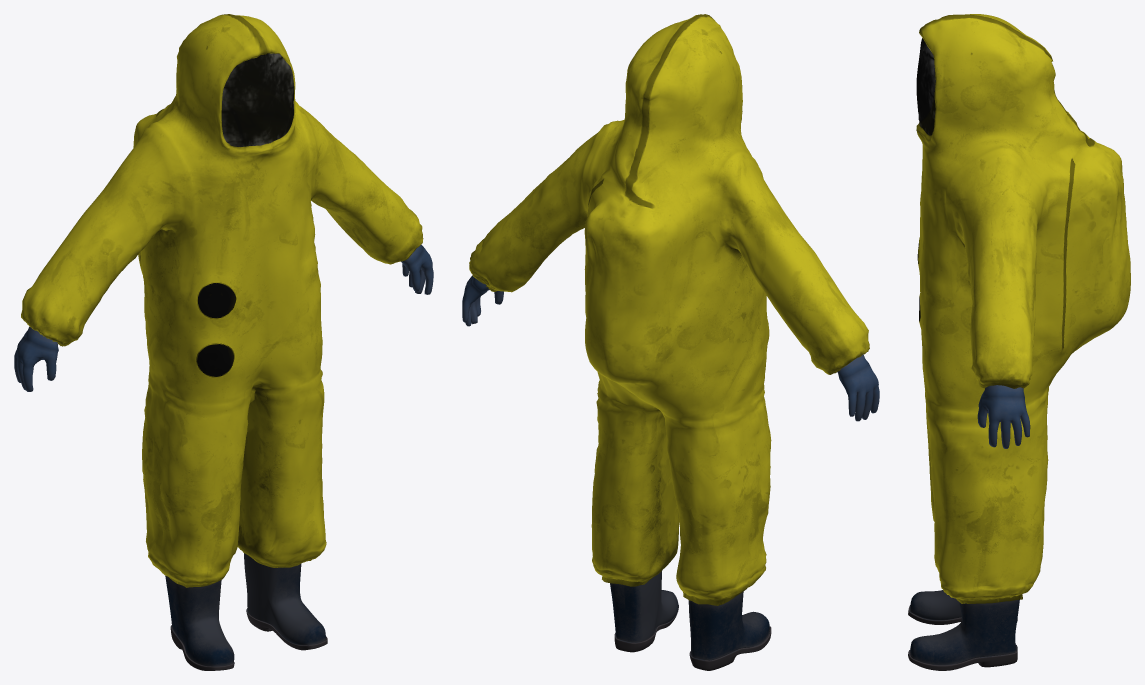
File: hazmat4.obj
3 renders of one model, left to right at view 1: azimuth 30°, elevation 25°; view 2: azimuth 150°, elevation 25°; view 3: azimuth 270°, elevation 25°, orthographic.
Parts seen in each view (by area): view 1: suit_Cube.010, boots_Cube.011, gloves_Cube.012; view 2: suit_Cube.010, boots_Cube.011, gloves_Cube.012; view 3: suit_Cube.010, boots_Cube.011, gloves_Cube.012.
Boxes of the visible parts, box(x1,y1,x2,y2) form: suit_Cube.010: box(21, 14, 423, 587); boots_Cube.011: box(165, 553, 327, 670); gloves_Cube.012: box(14, 244, 433, 391); suit_Cube.010: box(469, 14, 869, 605); boots_Cube.011: box(610, 570, 771, 670); gloves_Cube.012: box(462, 275, 879, 421); suit_Cube.010: box(916, 14, 1130, 603); boots_Cube.011: box(908, 590, 1019, 670); gloves_Cube.012: box(977, 385, 1030, 448).
Size of the model in its own units: 2.43 by 3.53 by 1.14.
